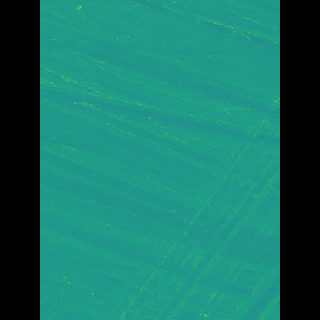Loch: (118, 75, 251, 319), (69, 75, 251, 154)
